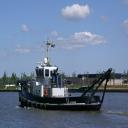tugboat: (19, 32, 115, 115)
